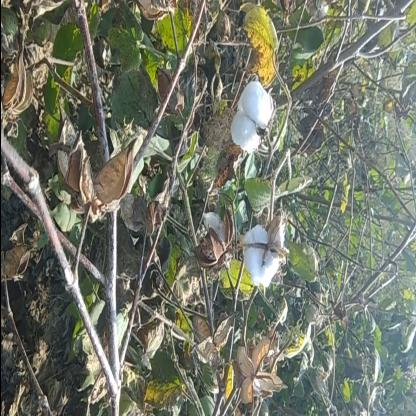cotton_ready: (219, 192, 293, 304), (216, 80, 265, 172)
